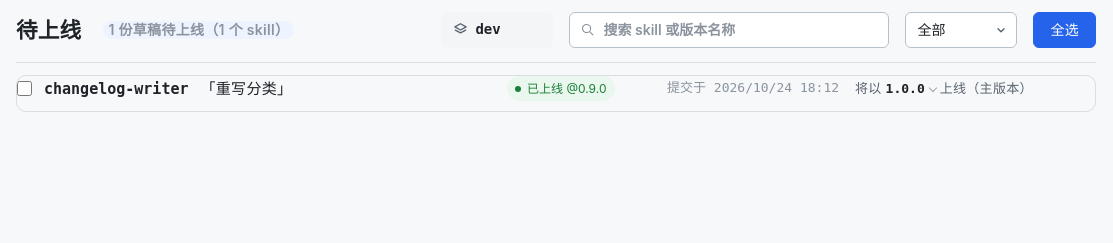
Test: the queue › recomputes the number the moment the kind changes on an already-typed row
Expected: the text with class "menu-trigger-text" reads "1.0.0", [886,81,925,96]
Step 1. Click the button with class "release-see" → (911, 89), box [881,79,941,100]
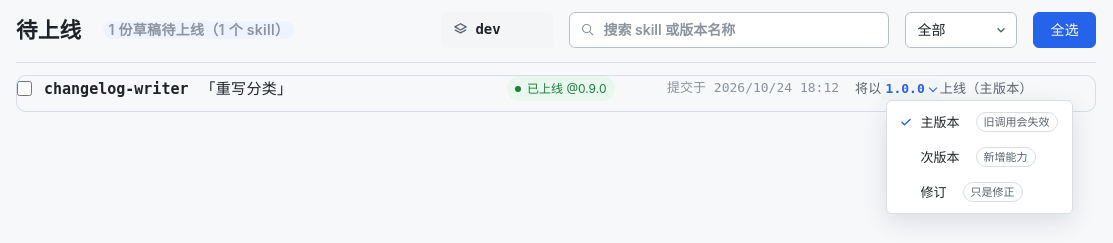
Step 2. Click the option with class "menu-item" showing "次版本 新增能力" → (979, 157), box [891,140,1068,175]
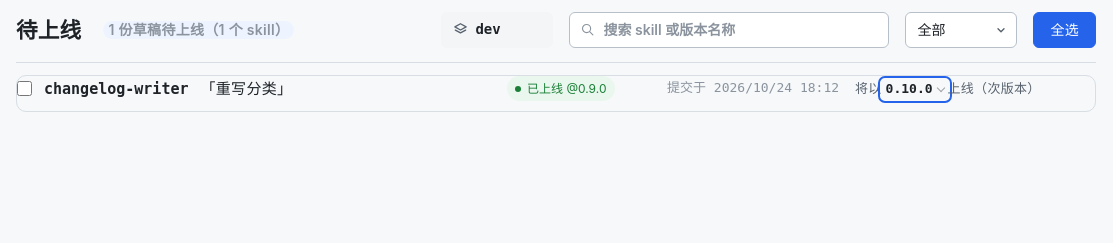
Result: the text with class "menu-trigger-text" reads "0.10.0" at [886,81,933,96]
